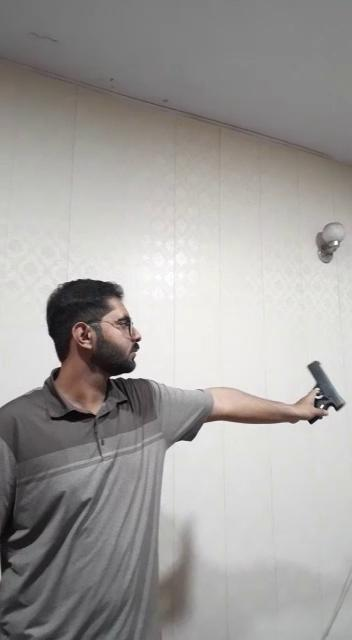criminal: (0, 275, 346, 640)
weapon: (299, 356, 346, 428)
